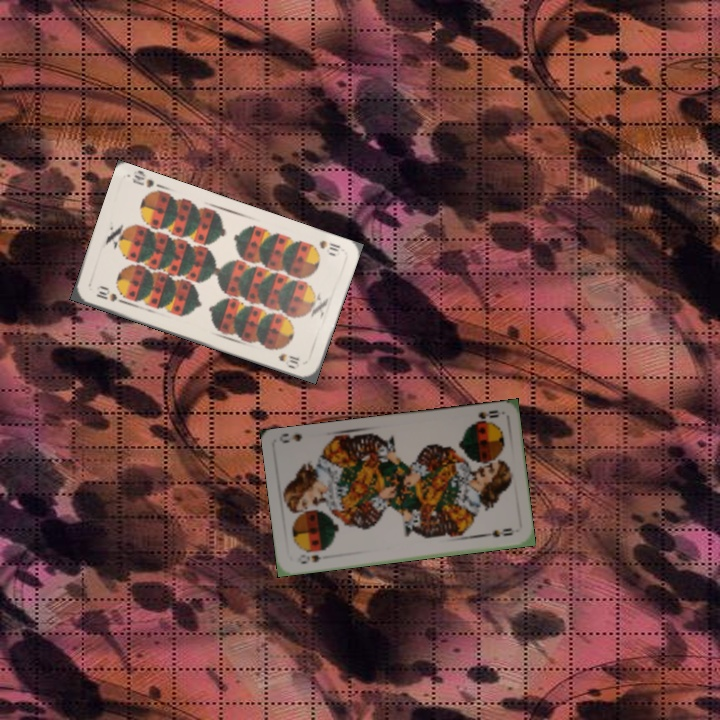S10: (92, 283, 127, 306), (315, 236, 343, 254)
SO: (466, 406, 502, 427), (297, 551, 331, 567)
